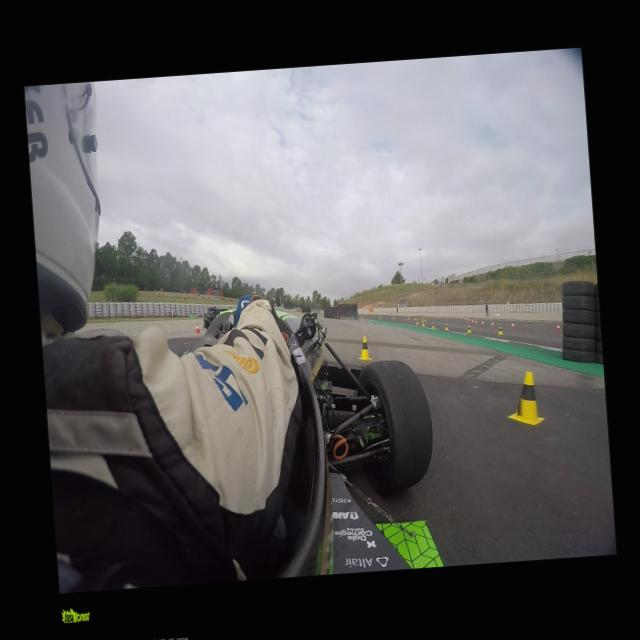orange_cone: (193, 322, 200, 334), (554, 323, 560, 332), (510, 322, 515, 329), (490, 321, 494, 328), (480, 320, 484, 326), (470, 319, 473, 324), (474, 320, 477, 324)
yellow_cone: (504, 372, 544, 426), (356, 335, 372, 360), (497, 326, 502, 335), (466, 324, 470, 334), (443, 322, 448, 330), (430, 321, 434, 328), (420, 315, 423, 321), (415, 320, 418, 324), (423, 317, 426, 321), (422, 321, 424, 326), (414, 316, 416, 320)
